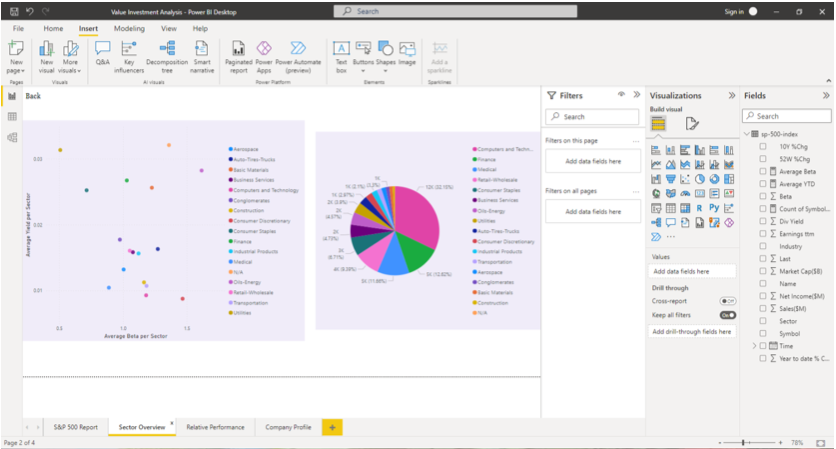

The page's visual inventory and layout, read from the dashboard file:
{"tool":"powerbi","page":{"name":"Sector Overview","canvas":[1280,720],"ordinal":1},"visuals":[{"type":"actionButton","box":[0,0,51.3,52.4],"z":0},{"type":"scatterChart","fields":{"X":["sp-500-index.Measure"],"Y":["sp-500-index.Measure 2"],"Series":["sp-500-index.Sector"]},"box":[0,86.1,696.5,546.2],"z":1000},{"type":"pieChart","fields":{"Y":["Sum(sp-500-index.Market Cap($B))"],"Category":["sp-500-index.Sector"]},"box":[723.5,114.4,556.5,489.6],"z":2000}]}

Visuals, with their boxes on the page's 1280x720 design canvas (x1, y1, x2, y2). These are canvas units, not pixel positions in the 836x449 screenshot, which may show the page scaled, cropped or inside an application window:
actionButton: 0,0,51,52
scatterChart - sp-500-index.Measure x sp-500-index.Measure 2: 0,86,696,632
pieChart - Sum(sp-500-index.Market Cap($B)) x sp-500-index.Sector: 724,114,1280,604
